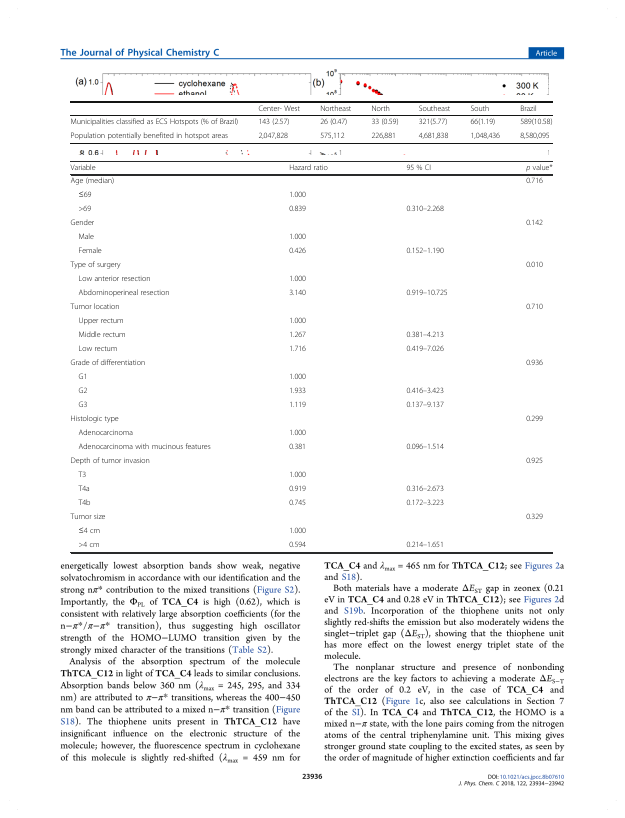borderless: (69, 160, 552, 552), (70, 100, 553, 143)
cell: (70, 117, 239, 127), (70, 131, 229, 141), (77, 443, 211, 453), (77, 289, 170, 299), (69, 457, 151, 467), (69, 359, 146, 369), (77, 275, 151, 285), (77, 429, 134, 439), (70, 261, 121, 271), (69, 415, 120, 425), (70, 303, 120, 313), (77, 331, 127, 341), (77, 317, 124, 327), (70, 177, 115, 187), (405, 289, 448, 299), (77, 345, 118, 355), (405, 205, 445, 215), (405, 247, 445, 257), (405, 331, 445, 341), (405, 345, 445, 355), (405, 387, 445, 397), (405, 401, 445, 411), (405, 443, 445, 453), (405, 485, 445, 495), (405, 499, 445, 509), (405, 541, 445, 551), (257, 104, 301, 113), (69, 513, 106, 523), (288, 164, 329, 173), (519, 117, 553, 127), (257, 117, 290, 127), (257, 131, 289, 141), (469, 131, 501, 141), (519, 131, 551, 141), (418, 131, 449, 141), (418, 117, 448, 127), (319, 104, 352, 113), (418, 104, 451, 113), (319, 117, 348, 127), (370, 117, 399, 127), (469, 117, 496, 127), (370, 131, 397, 141), (77, 247, 103, 257), (319, 131, 345, 141), (525, 164, 553, 173), (70, 219, 95, 229), (405, 164, 432, 173), (77, 527, 101, 537), (70, 164, 96, 173), (77, 541, 100, 551), (525, 177, 544, 187), (288, 191, 307, 201), (288, 205, 307, 215), (525, 219, 544, 229), (288, 233, 307, 243), (288, 247, 307, 257), (525, 261, 544, 271), (288, 275, 307, 285), (288, 289, 307, 299), (525, 303, 544, 313), (288, 317, 307, 327), (288, 331, 307, 341), (288, 345, 307, 355), (525, 359, 544, 369), (288, 373, 307, 383), (288, 387, 307, 397), (288, 401, 307, 411), (525, 415, 544, 425), (288, 429, 307, 439), (288, 443, 307, 453), (525, 457, 544, 467), (288, 471, 307, 481), (288, 485, 307, 495), (288, 499, 307, 509), (525, 513, 544, 523), (288, 527, 307, 537), (288, 541, 307, 551), (370, 104, 391, 113), (469, 104, 490, 113), (77, 233, 95, 243), (519, 104, 538, 113), (77, 191, 92, 201), (77, 205, 92, 215), (77, 485, 91, 495), (77, 499, 91, 509), (77, 373, 88, 383), (77, 387, 88, 397), (77, 401, 88, 411), (77, 471, 87, 481)
